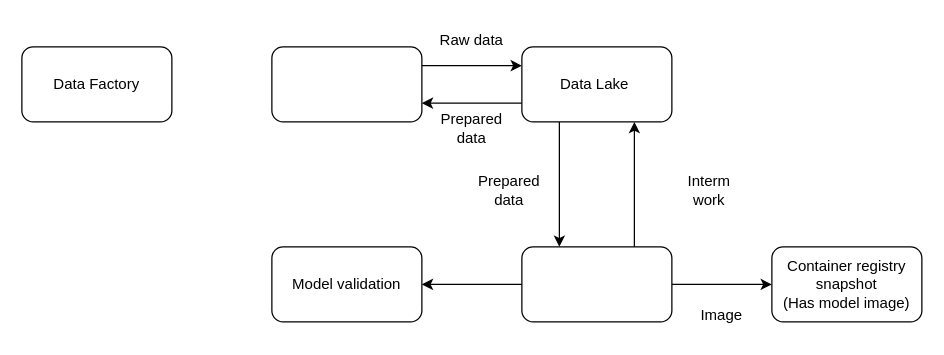
This 944x355 diagram has some shape labels left out. Here are the shapes that lost their labels. From the top down, the centre of each, then its label:
At point 346,84: "Databricks (Run development dataprep)".
At point 596,284: "Kubernetes (Run Pod/Job for model development)".
